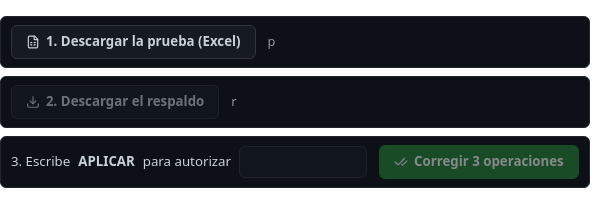
Test case: PasosCorreccion › en orden: prueba → respaldo → APLICAR; luego aplica y dice cuántas y por qué no las demás
Click the button "1. Descargar la prueba (Excel)" at (133, 42), box x1=11 y1=25 x2=256 y2=59
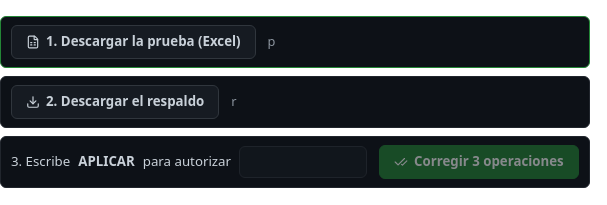
Click the button "2. Descargar el respaldo" at (115, 102), box x1=11 y1=85 x2=219 y2=119
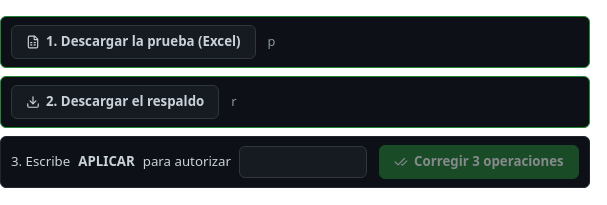
Type "aplicar" into the field at (303, 162), box x1=239 y1=146 x2=367 y2=178
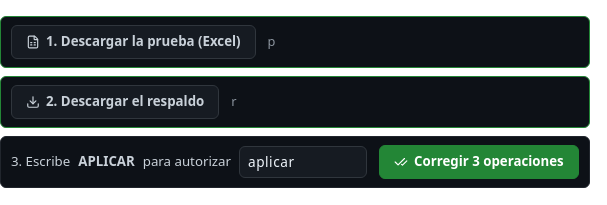
Click the button "Corregir 3 operaciones" at (479, 162), box x1=379 y1=145 x2=579 y2=179
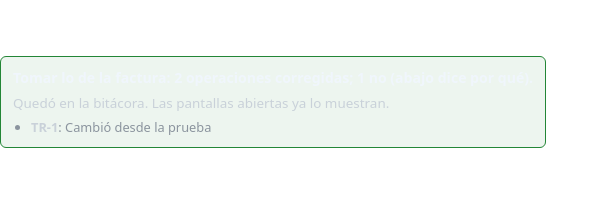
Now the message shows "2 operaciones corregidas; 1 no", box x1=0 y1=56 x2=546 y2=148
Now the message shows "Cambió desde la prueba", box x1=65 y1=118 x2=211 y2=136
